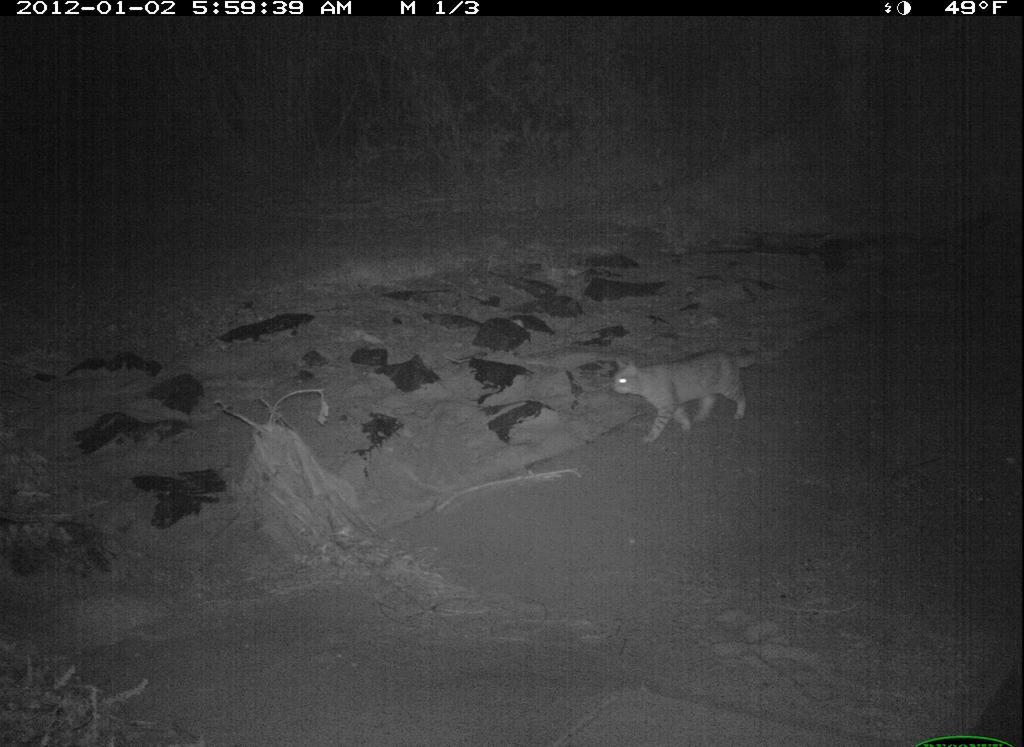cat: (605, 338, 769, 449)
